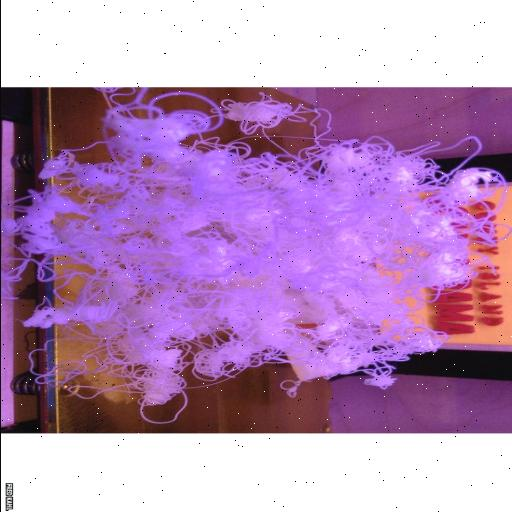spaghetti: (0, 96, 508, 427)
